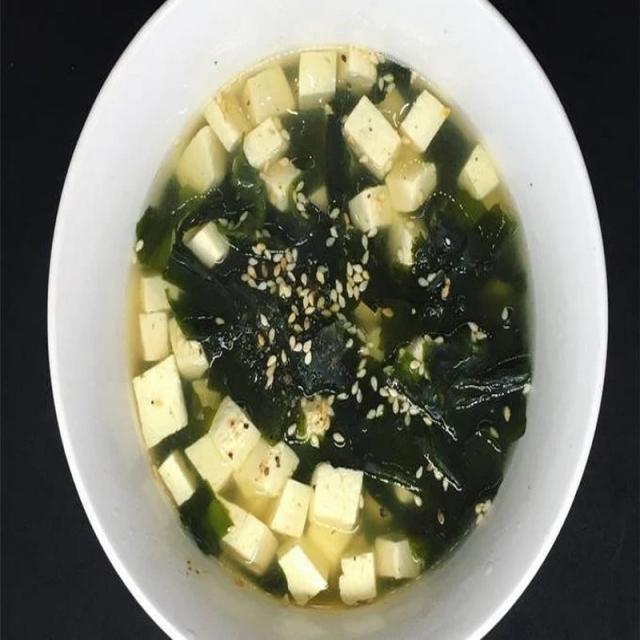canh rong bien: (129, 45, 532, 604)
